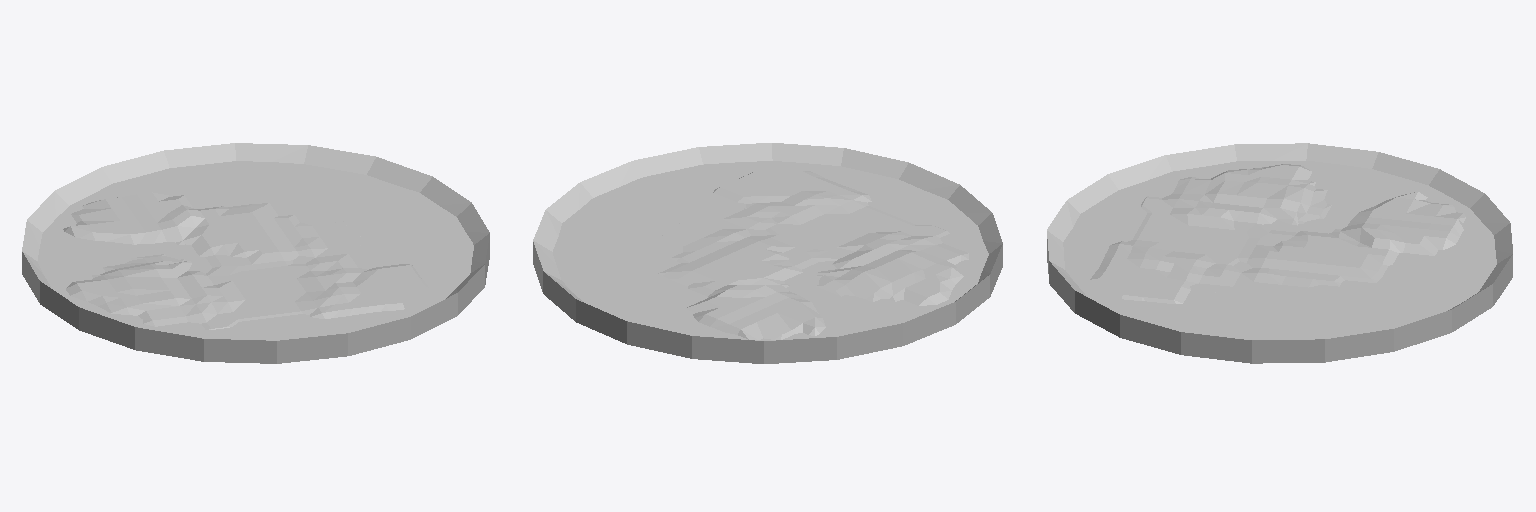
Rendered from flat earth disc.obj.
3 renders of one model, left to right at view 1: azimuth 30°, elevation 25°; view 2: azimuth 150°, elevation 25°; view 3: azimuth 270°, elevation 25°, orthographic.
Parts seen in each view (by area): view 1: polySurface5; view 2: polySurface5; view 3: polySurface5.
Boxes of the visible parts, <box> form: polySurface5: <box>22,143,489,363</box>; polySurface5: <box>533,143,1002,363</box>; polySurface5: <box>1047,143,1512,363</box>.
Size of the model in its own units: 36.96 by 2.47 by 36.96.